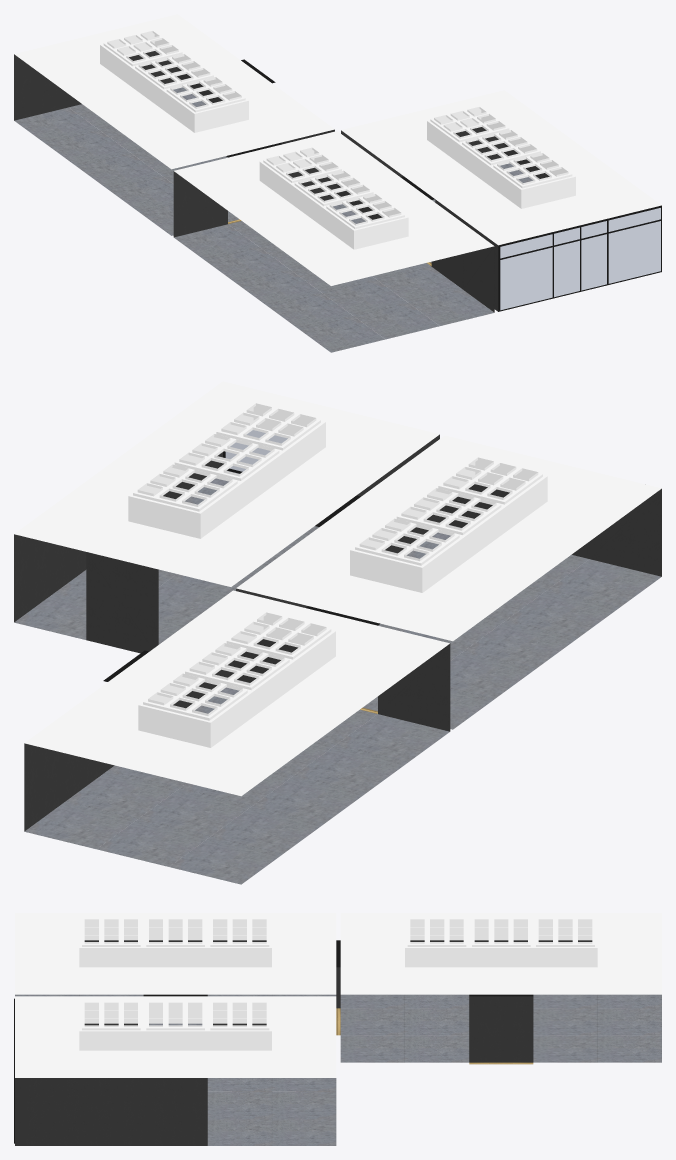
File: presence_building.glb
3 renders of one model, top to bottom at view 1: azimuth 30°, elevation 25°; view 2: azimuth 150°, elevation 25°; view 3: azimuth 270°, elevation 25°, orthographic. The views are drawn at different scales.
Parts seen in each view (by area): view 1: HallNorthwest_Ceiling, HallWest_Ceiling, Lobby_Ceiling, HallWest_Floor, Lobby_Walls, HallNorthwest_Floor, HallWest_Walls, HallNorthwest_Walls; view 2: HallNorthwest_Ceiling, HallWest_Ceiling, Lobby_Ceiling, HallNorthwest_Floor, HallWest_Floor, HallNorthwest_Walls, Lobby_Floor, Lobby_WallFill_North, Lobby_Walls, HallWest_Walls; view 3: HallNorthwest_Ceiling, HallWest_Ceiling, Lobby_Ceiling, HallNorthwest_Floor, Lobby_Walls, Lobby_Floor, Lobby_WallFill_East, HallNorthwest_WallFill_East, HallWest_Floor, HallNorthwest_Walls.
Boxes of the visible parts, x1,y1,x2,y2 form: HallNorthwest_Ceiling: [14, 14, 334, 169]; HallWest_Ceiling: [174, 131, 494, 285]; Lobby_Ceiling: [341, 90, 661, 245]; HallWest_Floor: [174, 198, 494, 352]; Lobby_Walls: [341, 127, 661, 311]; HallNorthwest_Floor: [14, 81, 241, 235]; HallWest_Walls: [173, 167, 494, 312]; HallNorthwest_Walls: [14, 51, 334, 144]; HallNorthwest_Ceiling: [24, 590, 449, 796]; HallWest_Ceiling: [236, 435, 661, 641]; Lobby_Ceiling: [14, 381, 439, 586]; HallNorthwest_Floor: [24, 680, 449, 884]; HallWest_Floor: [363, 524, 661, 729]; HallNorthwest_Walls: [24, 639, 450, 831]; Lobby_Floor: [14, 470, 318, 644]; Lobby_WallFill_North: [86, 552, 158, 653]; Lobby_Walls: [14, 430, 439, 622]; HallWest_Walls: [236, 484, 661, 607]; HallNorthwest_Ceiling: [336, 913, 661, 996]; HallWest_Ceiling: [15, 913, 336, 996]; Lobby_Ceiling: [15, 996, 336, 1077]; HallNorthwest_Floor: [336, 994, 661, 1064]; Lobby_Walls: [14, 998, 266, 1145]; Lobby_Floor: [207, 1078, 336, 1145]; Lobby_WallFill_East: [143, 1078, 207, 1145]; HallNorthwest_WallFill_East: [469, 996, 533, 1062]; HallWest_Floor: [15, 994, 336, 1025]; HallNorthwest_Walls: [336, 940, 592, 1008].
Bounding box in the file's own units: 18.2 × 4.7 × 30.24.
Materials: 16 (16 with a texture image).
